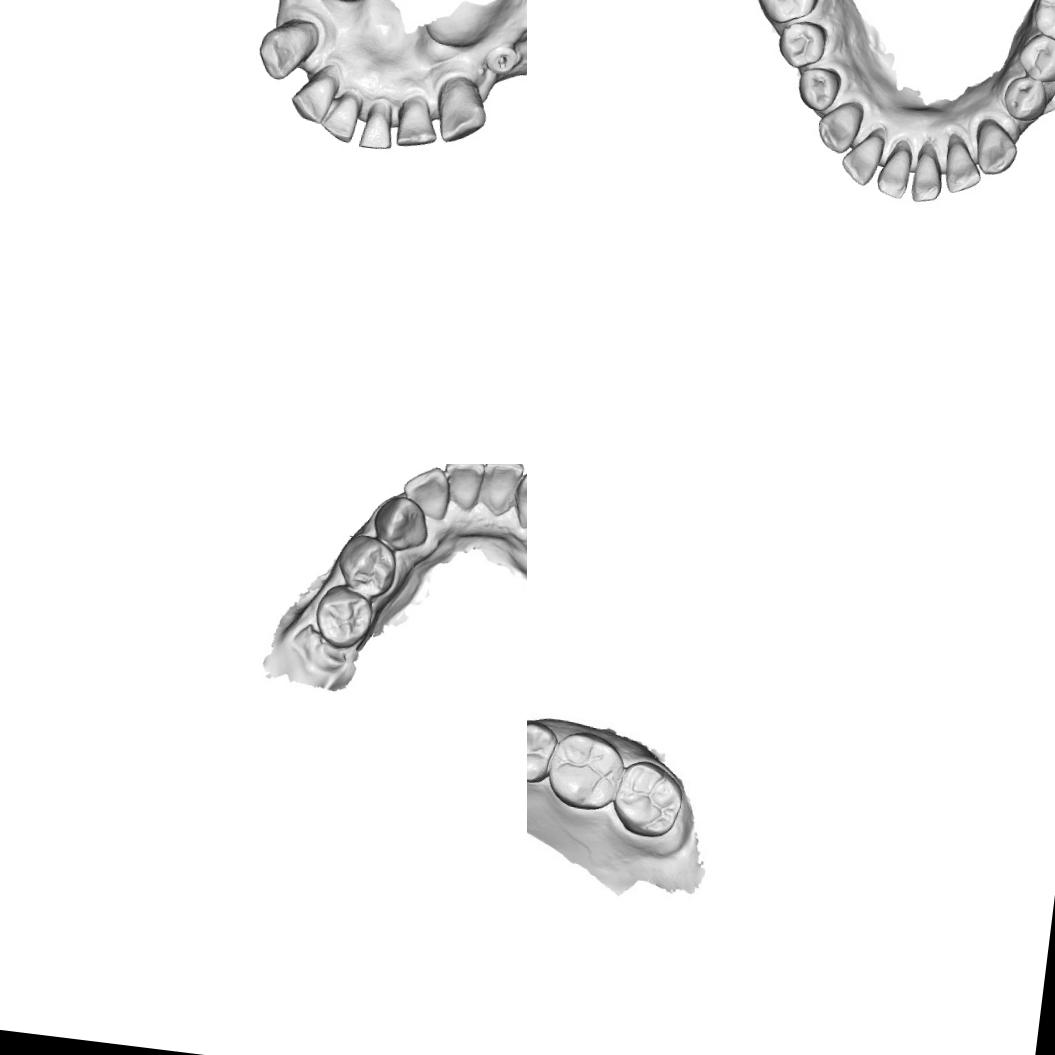canine: (254, 14, 322, 86), (432, 76, 492, 148), (370, 492, 434, 553), (812, 95, 866, 156), (971, 118, 1020, 179)
implant_minus: (481, 38, 523, 80)
incisor: (399, 464, 454, 518), (838, 130, 886, 190), (288, 71, 339, 127), (941, 138, 987, 198), (391, 95, 440, 150), (477, 464, 526, 514), (874, 144, 916, 202), (321, 91, 363, 146), (441, 464, 490, 510), (908, 150, 946, 206), (358, 98, 397, 152), (510, 470, 527, 530)
molar: (541, 728, 630, 814), (608, 756, 688, 842), (750, 0, 824, 30), (1030, 0, 1055, 49)
premolar: (334, 531, 402, 600), (310, 581, 376, 652), (774, 17, 830, 72), (527, 715, 565, 789), (999, 74, 1052, 126), (794, 62, 844, 115), (1014, 31, 1055, 86)
